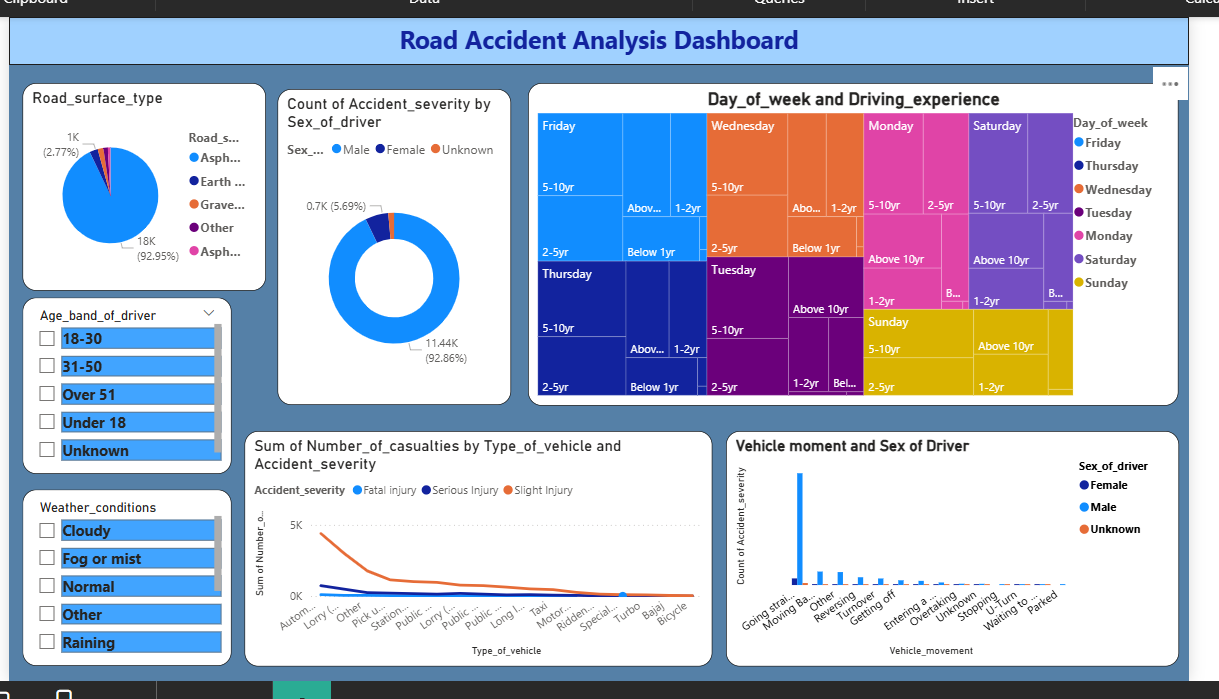

The dashboard page shown, as its layout file describes it:
{"tool":"powerbi","page":{"name":"Page 3","canvas":[1280,720],"ordinal":0},"visuals":[{"type":"clusteredColumnChart","title":"Vehicle moment and Sex of Driver","fields":{"Category":["RTA Dataset.Vehicle_movement"],"Y":["CountNonNull(RTA Dataset.Accident_severity)"],"Series":["RTA Dataset.Sex_of_driver"]},"box":[776.8,448.2,491.1,255.4],"z":0},{"type":"slicer","fields":{"Values":["RTA Dataset.Weather_conditions"]},"box":[14.3,512.5,226.8,191.1],"z":1000},{"type":"treemap","title":"Day_of_week and Driving_experience","fields":{"Group":["RTA Dataset.Day_of_week"],"Values":["CountNonNull(RTA Dataset.Type_of_vehicle)"],"Details":["RTA Dataset.Driving_experience"]},"box":[562.5,71.4,705.4,350],"z":2000},{"type":"donutChart","fields":{"Category":["RTA Dataset.Sex_of_driver"],"Y":["CountNonNull(RTA Dataset.Accident_severity)"]},"box":[291.1,78.6,253.6,342.9],"z":3000},{"type":"pieChart","title":"Road_surface_type","fields":{"Category":["RTA Dataset.Road_surface_type"],"Y":["Sum(RTA Dataset.Number_of_casualties)"]},"box":[14.3,71.4,264.3,225],"z":4000},{"type":"textbox","box":[0,0,1280.4,51.8],"z":5000},{"type":"slicer","fields":{"Values":["RTA Dataset.Age_band_of_driver"]},"box":[14.3,303.6,226.8,191.1],"z":6000},{"type":"lineChart","fields":{"Category":["RTA Dataset.Type_of_vehicle"],"Y":["Sum(RTA Dataset.Number_of_casualties)"],"Series":["RTA Dataset.Accident_severity"]},"box":[255.4,448.2,507.1,255.4],"z":7000}]}

Visuals, with their boxes in screenshot pixels (x1, y1, x2, y2):
"Vehicle moment and Sex of Driver" clusteredColumnChart: [left=723, top=434, right=1184, bottom=674]
slicer - RTA Dataset.Weather_conditions: [left=7, top=494, right=220, bottom=674]
"Day_of_week and Driving_experience" treemap: [left=522, top=80, right=1184, bottom=408]
donutChart - RTA Dataset.Sex_of_driver x CountNonNull(RTA Dataset.Accident_severity): [left=267, top=87, right=505, bottom=409]
"Road_surface_type" pieChart: [left=7, top=80, right=255, bottom=291]
textbox: [left=0, top=13, right=1196, bottom=61]
slicer - RTA Dataset.Age_band_of_driver: [left=7, top=298, right=220, bottom=477]
lineChart - RTA Dataset.Type_of_vehicle x Sum(RTA Dataset.Number_of_casualties): [left=234, top=434, right=710, bottom=674]
